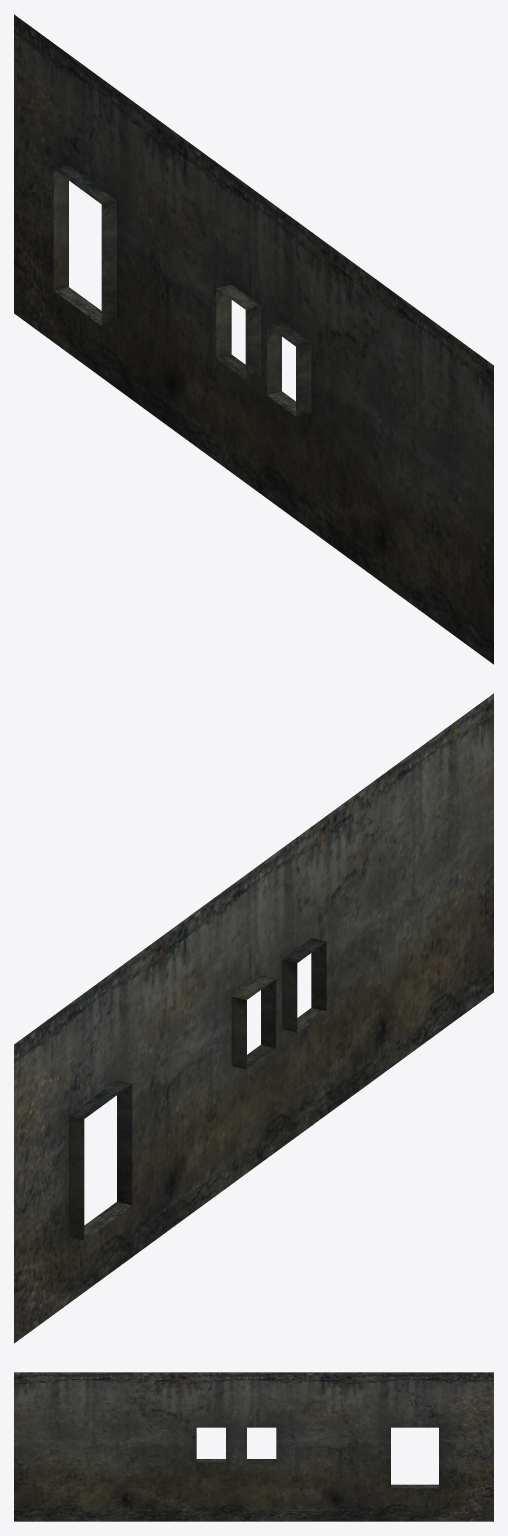
Rendered from Wall_04.FBX.
3 renders of one model, top to bottom at view 1: azimuth 30°, elevation 25°; view 2: azimuth 150°, elevation 25°; view 3: azimuth 270°, elevation 25°, orthographic. The views are drawn at different scales.
Parts seen in each view (by area): view 1: Wall_04; view 2: Wall_04; view 3: Wall_04.
Boxes of the visible parts, left/top/right/bottom form: Wall_04: left=14, top=14, right=493, bottom=664; Wall_04: left=14, top=693, right=493, bottom=1343; Wall_04: left=14, top=1372, right=493, bottom=1521.
Bounding box in the file's own units: 27.27 × 511 × 1487.
